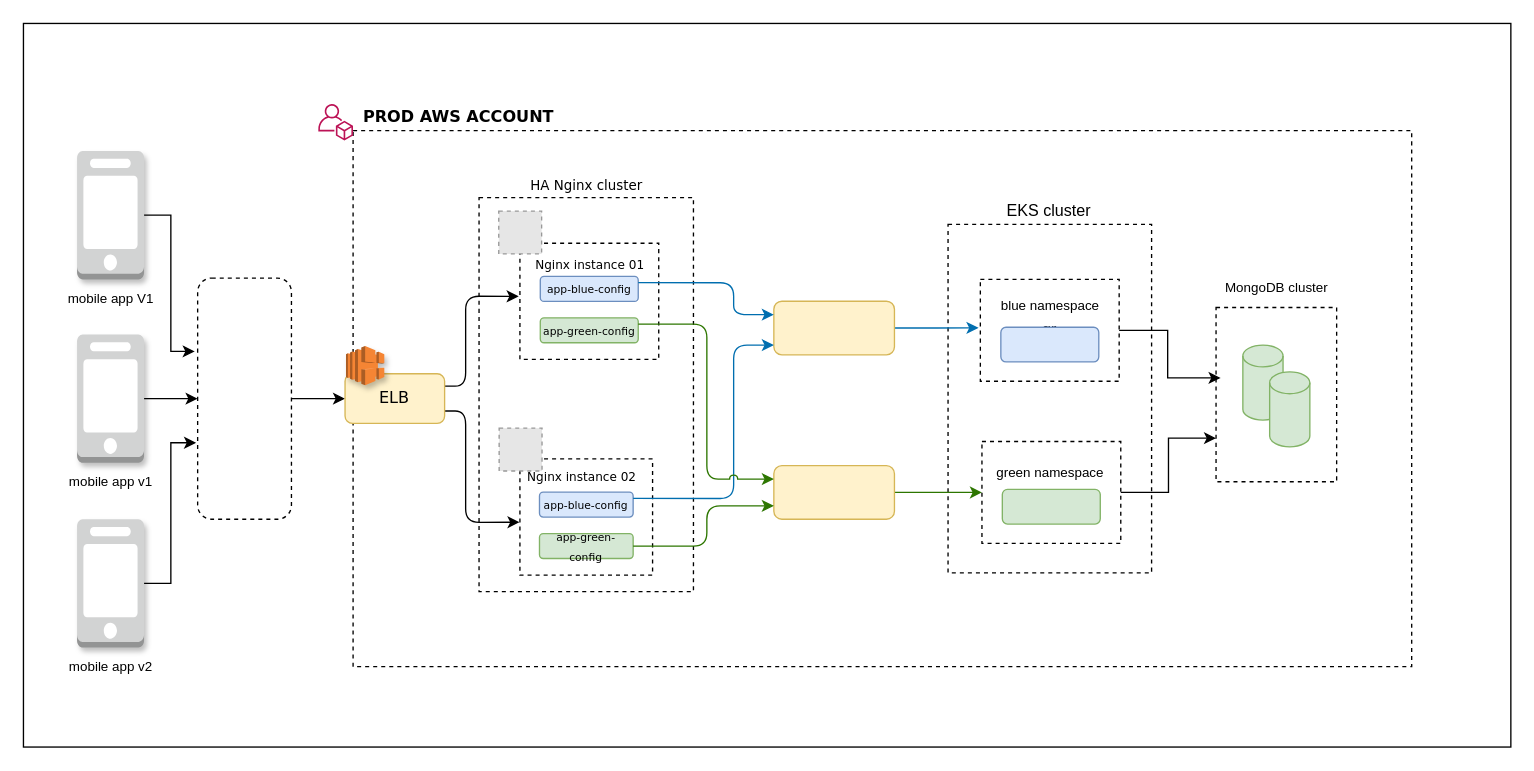
This 1534x771 diagram has some shape labels left out. Grey dashed boxes stand in for pictures. The centre of each missing label's shape, as x and y in pixels:
AWS security account: the point at 243,398
blue ingress ELB: the point at 833,327
green ingress ELB: the point at 833,491
v1 code: the point at 1049,344
v2 code: the point at 1050,506
